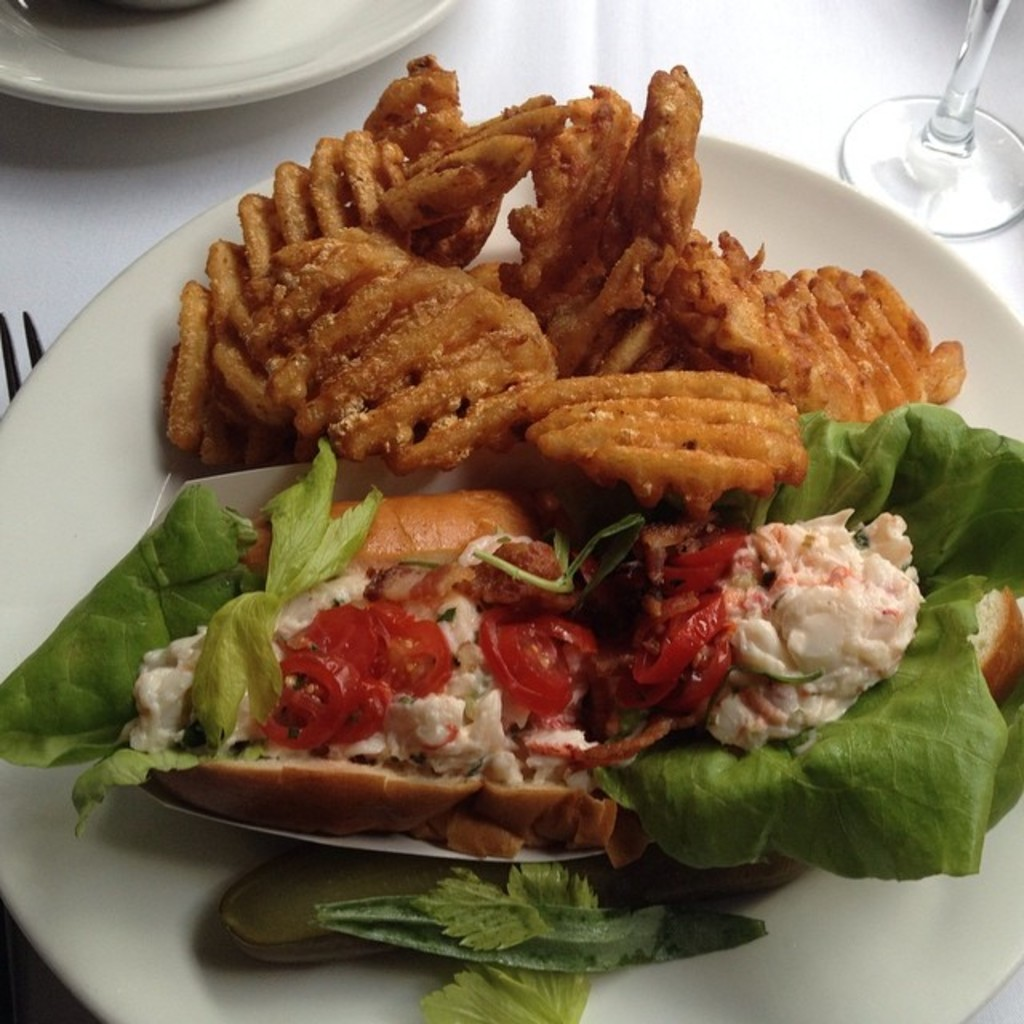salad: (0, 434, 1022, 1022)
